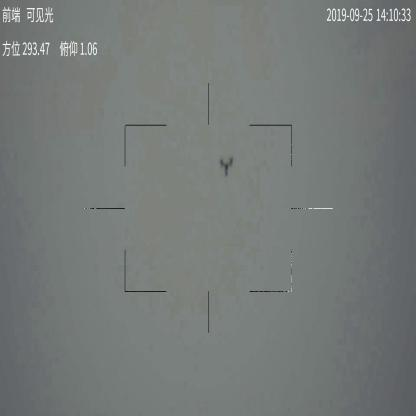uav: (219, 154, 234, 176)
